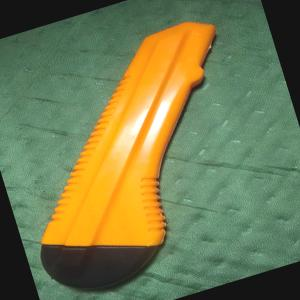estilete: (0, 13, 278, 300)
